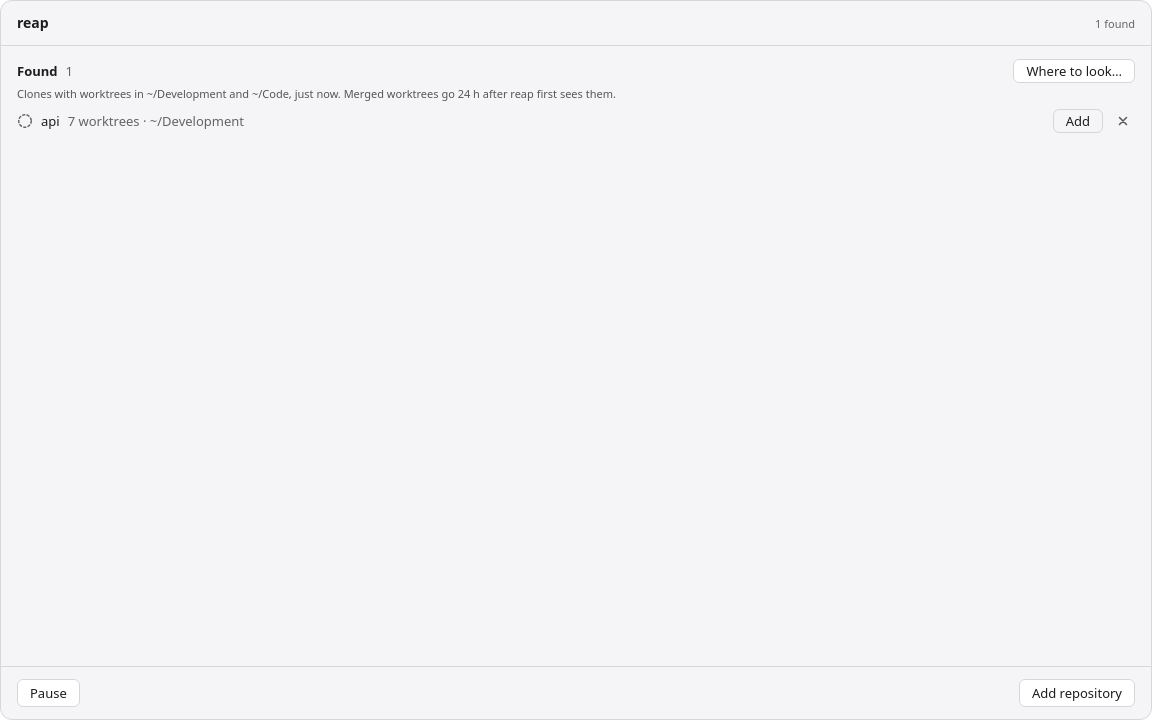
Scenario: Popover with nothing listed › falls to the nothing-found state when the last suggestion is skipped
The width and height of the screenshot is (1152, 720).
Click the button named "Skip api" at {"x": 1123, "y": 121}, box [1111,109,1135,133]
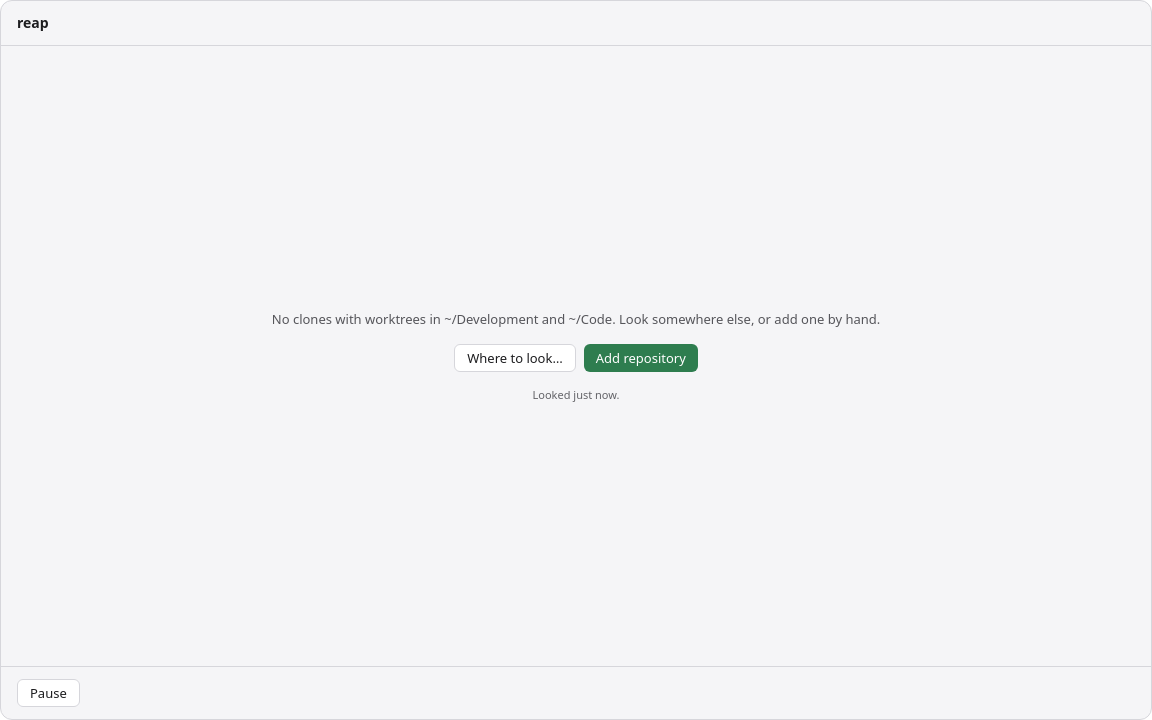
Check: the text "No clones with worktrees in" is shown, box [272,310,880,328]
